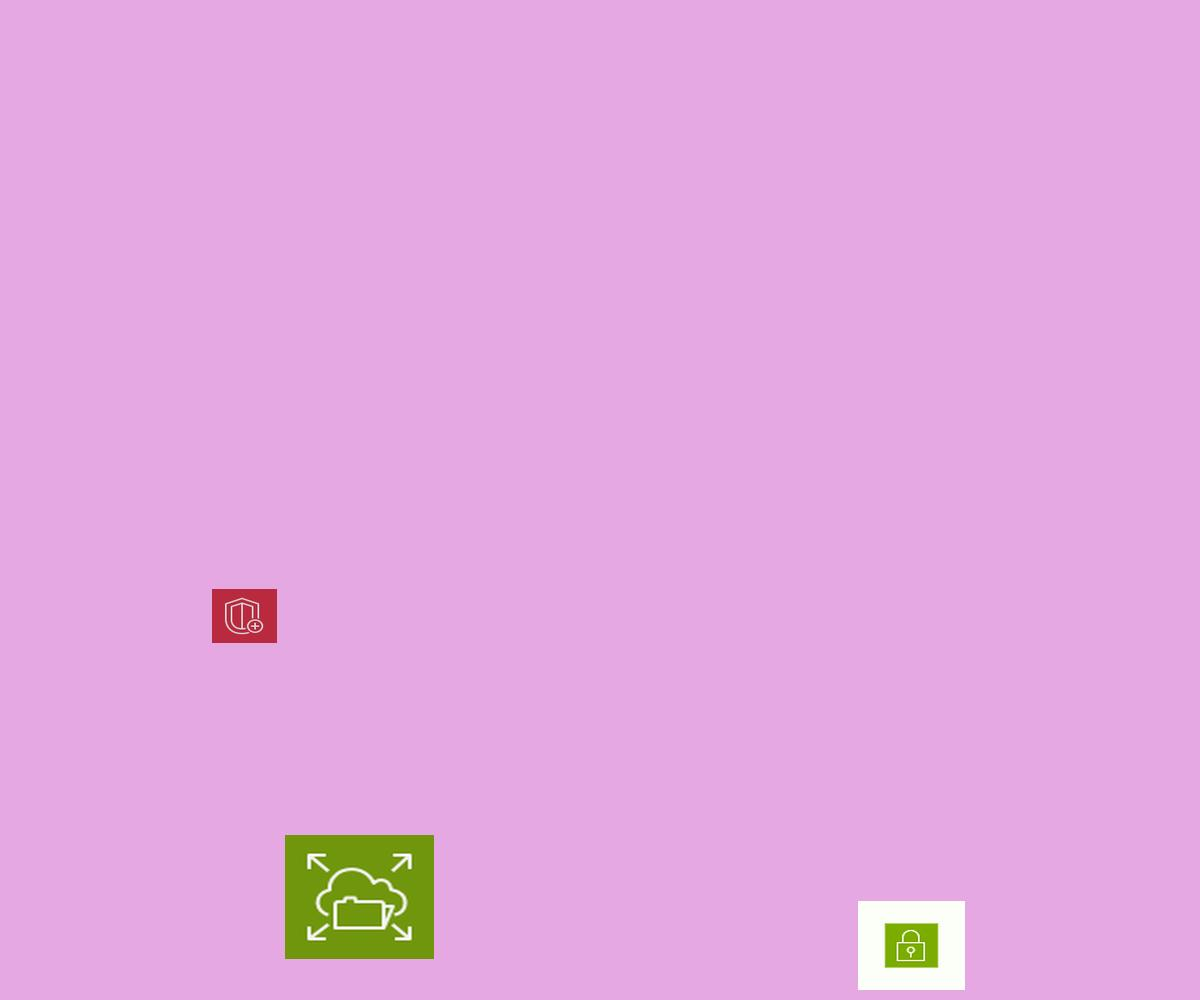AWS-EFS: (285, 835, 434, 959)
AWS-Public-subnet: (858, 901, 965, 990)
AWS-Shield: (212, 589, 277, 643)
